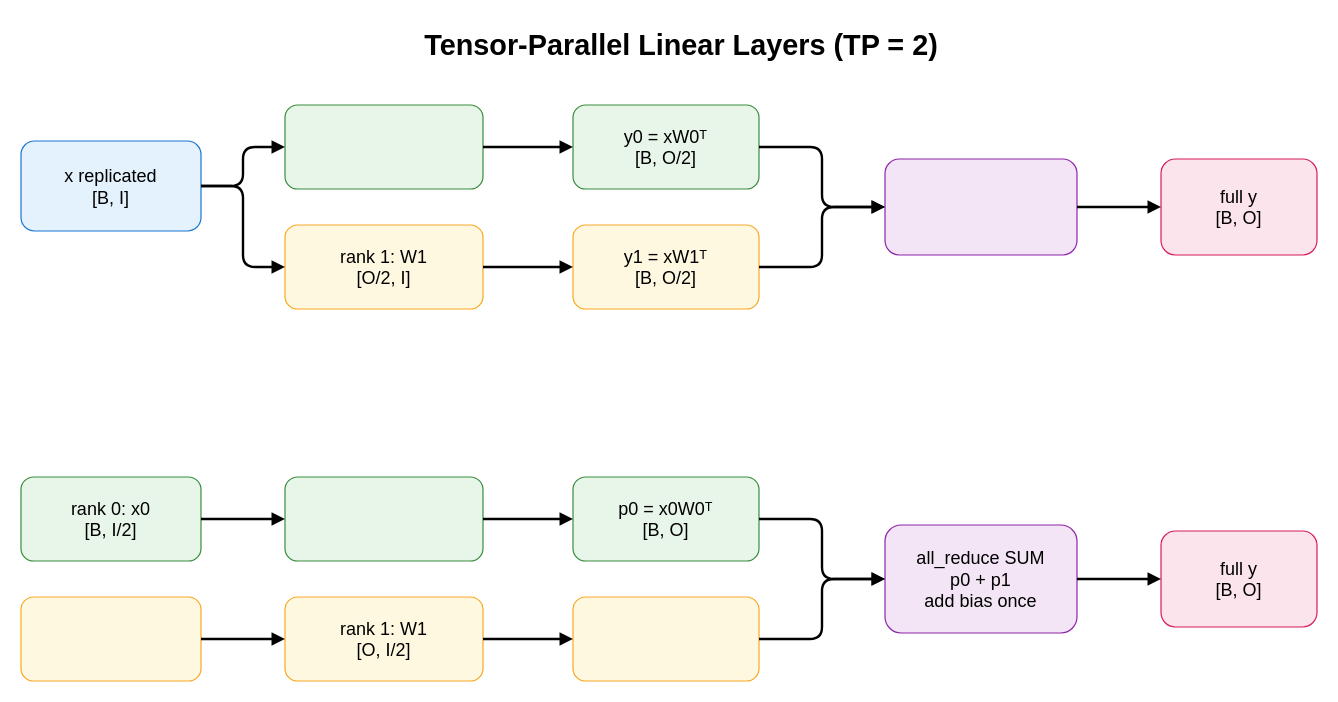
This 1338x702 diagram has some shape labels left out. The shapes that lost their labels are listed below. From the top down, each one's centre as x and y in pixels, then its label:
point 383,146: rank 0: W0 [O/2, I]
point 980,206: all_gather concat(y0, y1)
point 383,518: rank 0: W0 [O, I/2]
point 110,638: rank 1: x1 [B, I/2]
point 665,638: p1 = x1W1ᵀ [B, O]
